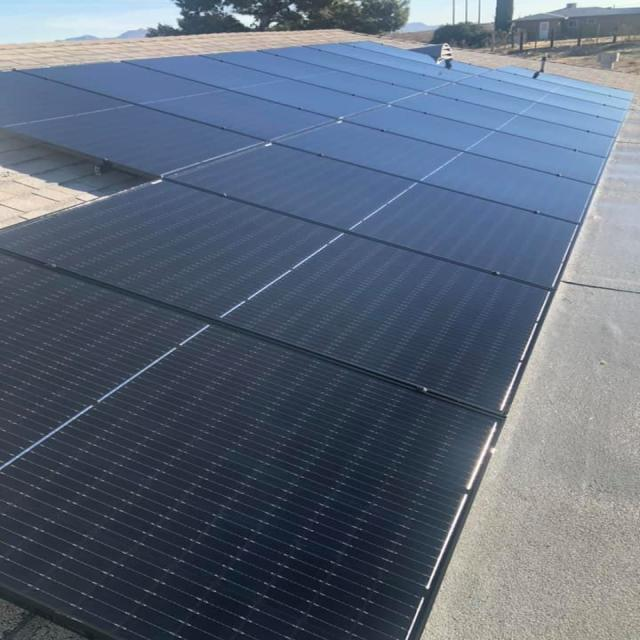clean-solar-panel: (2, 41, 630, 640)
